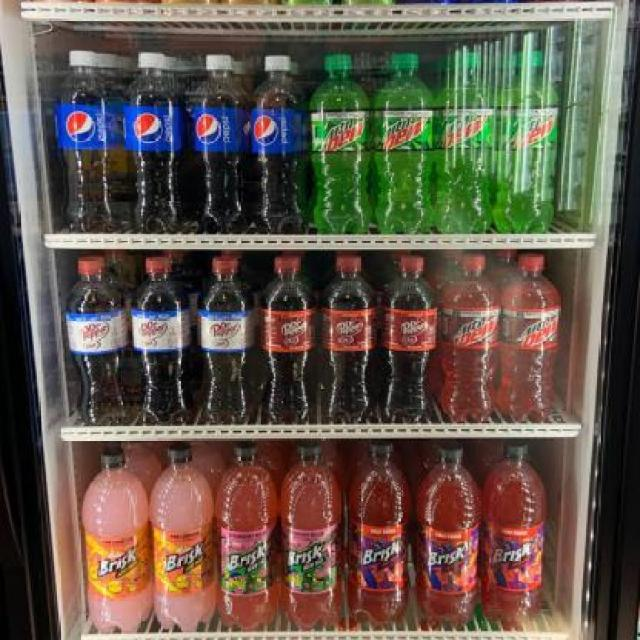Drinks: (55, 50, 122, 233), (373, 52, 435, 236), (63, 256, 128, 430), (434, 52, 495, 236), (497, 52, 558, 235), (308, 56, 369, 236), (379, 253, 441, 424), (318, 253, 380, 424), (441, 253, 502, 424), (131, 256, 192, 426), (194, 254, 254, 426), (247, 54, 304, 234), (502, 253, 562, 424), (256, 256, 316, 424), (124, 52, 178, 235), (190, 54, 244, 235)
